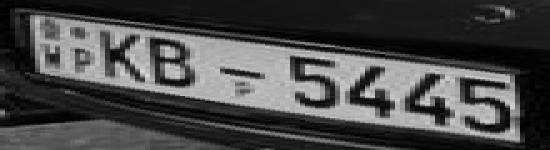-: (207, 64, 272, 82)
4: (400, 70, 459, 128), (350, 62, 403, 120)
5: (458, 73, 520, 133), (286, 52, 347, 110)
B: (143, 36, 205, 88)
K: (93, 29, 147, 84)
P: (69, 46, 96, 75)
W: (34, 44, 69, 72)
